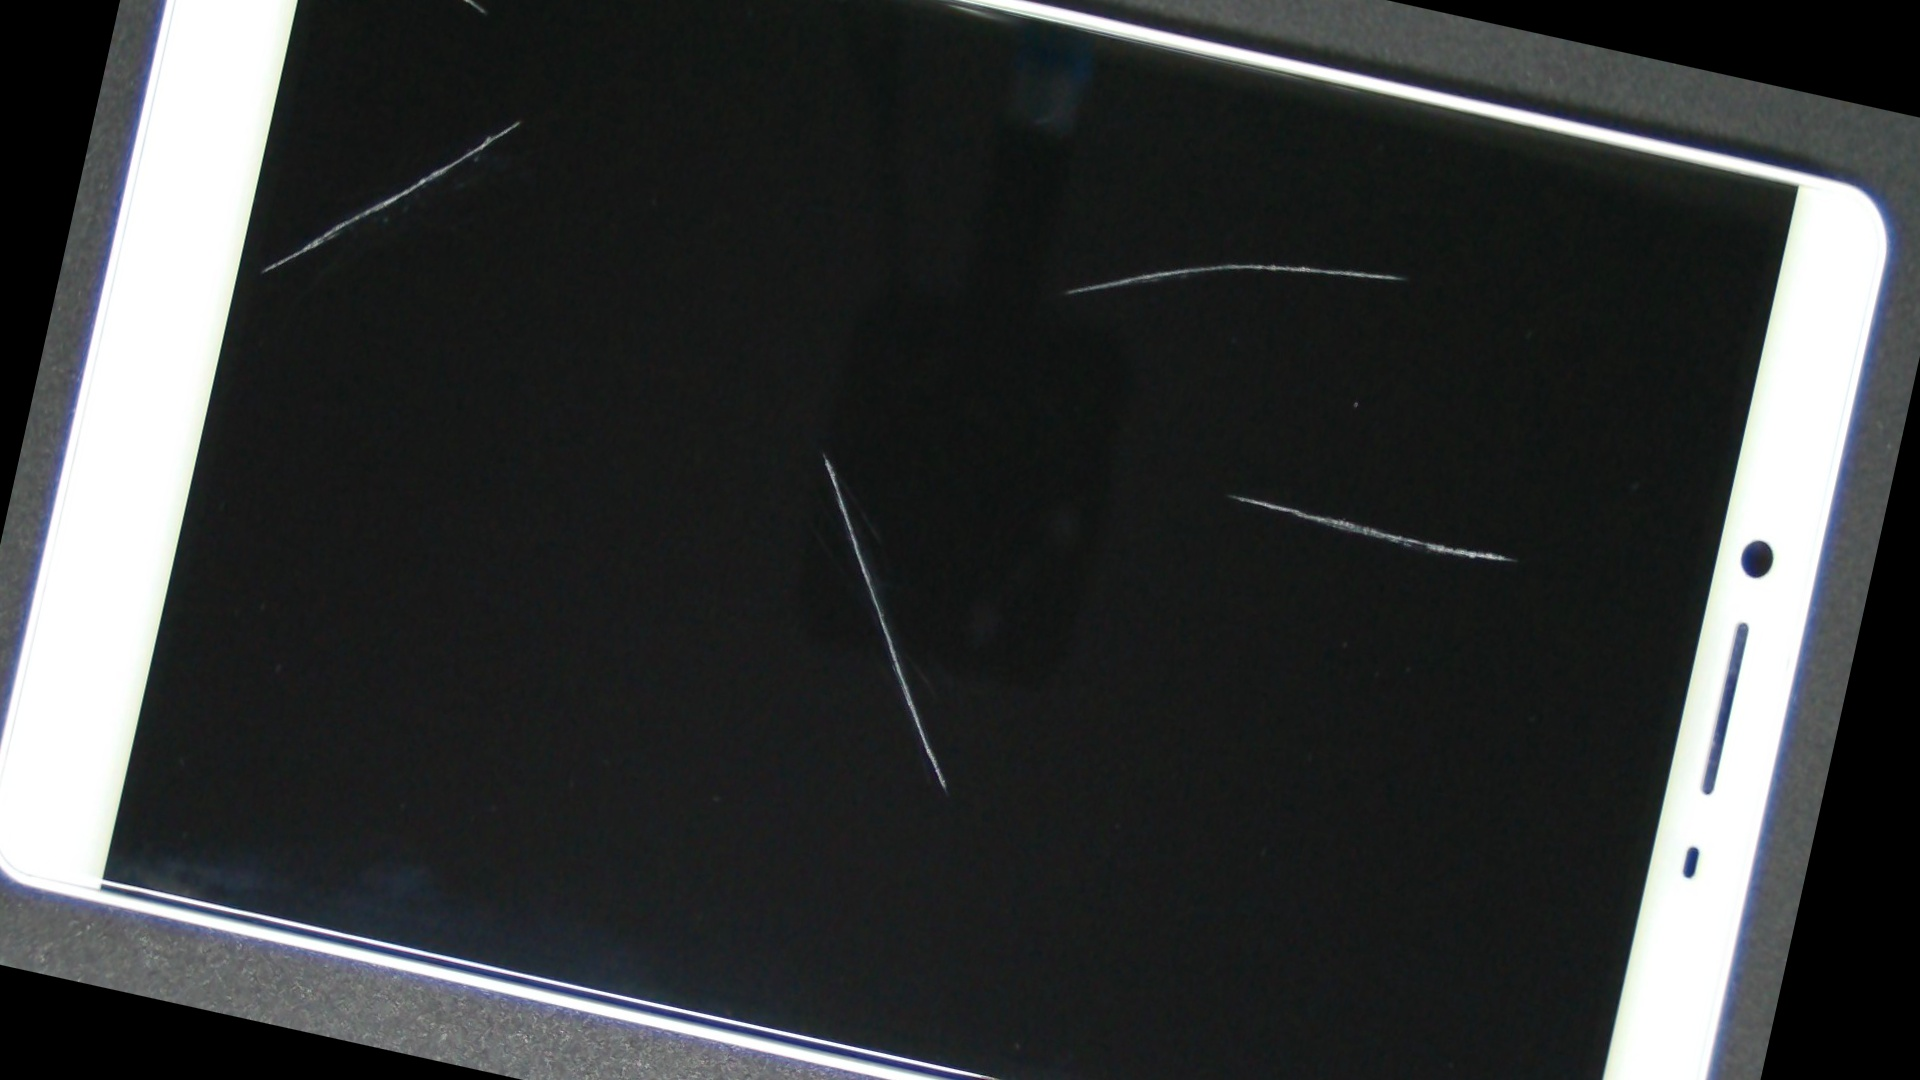oil: (595, 113, 1869, 873), (381, 91, 1266, 808), (732, 4, 1920, 518), (285, 0, 748, 316)
